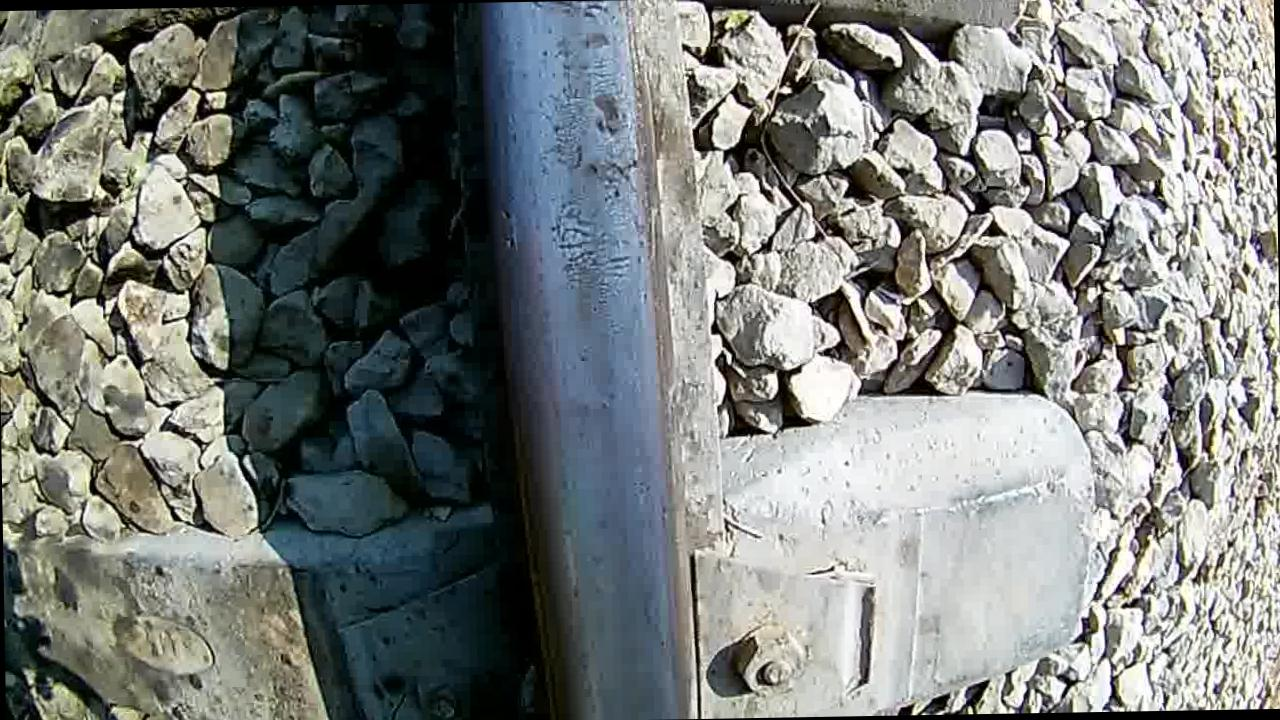crack: (476, 0, 686, 720)
